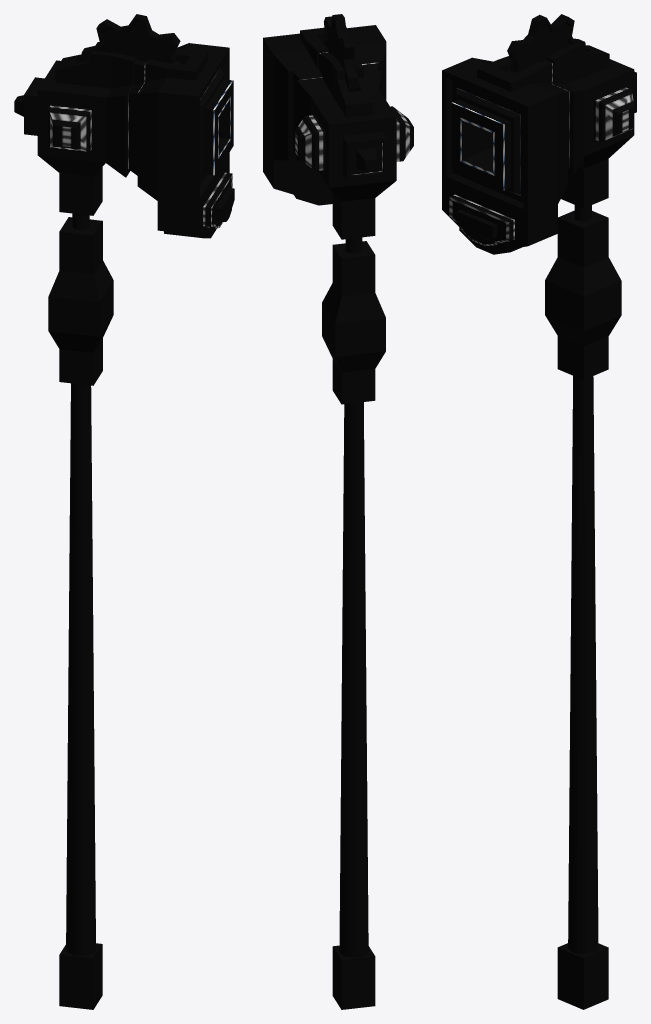
File: Dispenser_2_0.fbx
3 views of the same model, side by side, from view 1: azimuth 30°, elevation 25°; view 2: azimuth 150°, elevation 25°; view 3: azimuth 270°, elevation 25° (orthographic). The views are drawn at different scales.
Visible parts, largest first — view 1: Dispenser, Dispenser_Prop_0, Dispenser_Prop_1, Gear; view 2: Dispenser, Dispenser_Prop_0, Dispenser_Prop_1, Gear; view 3: Dispenser, Dispenser_Prop_0, Dispenser_Prop_1, Gear.
Part boxes in pixels (<box>): Dispenser: <box>14,42,234,238</box>; Dispenser_Prop_0: <box>59,167,102,1009</box>; Dispenser_Prop_1: <box>48,217,113,385</box>; Gear: <box>81,14,181,64</box>; Dispenser: <box>263,25,413,205</box>; Dispenser_Prop_0: <box>332,192,375,1009</box>; Dispenser_Prop_1: <box>322,241,385,404</box>; Gear: <box>323,14,358,91</box>; Dispenser: <box>442,42,636,254</box>; Dispenser_Prop_0: <box>557,158,608,1009</box>; Dispenser_Prop_1: <box>545,210,621,379</box>; Gear: <box>507,14,585,74</box>.
Bounding box in the file's own units: 1.6 × 9.08 × 1.6.
Materials: 1 (1 with a texture image).
